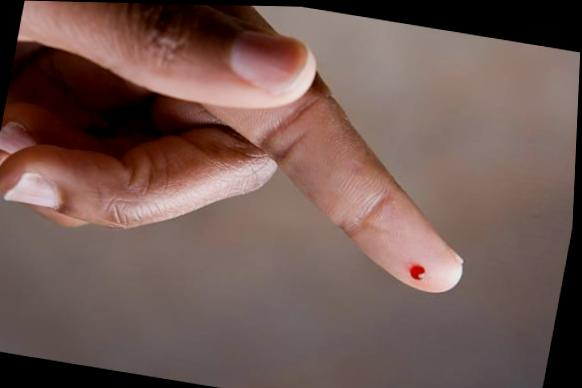Fire: (413, 263, 429, 277)
